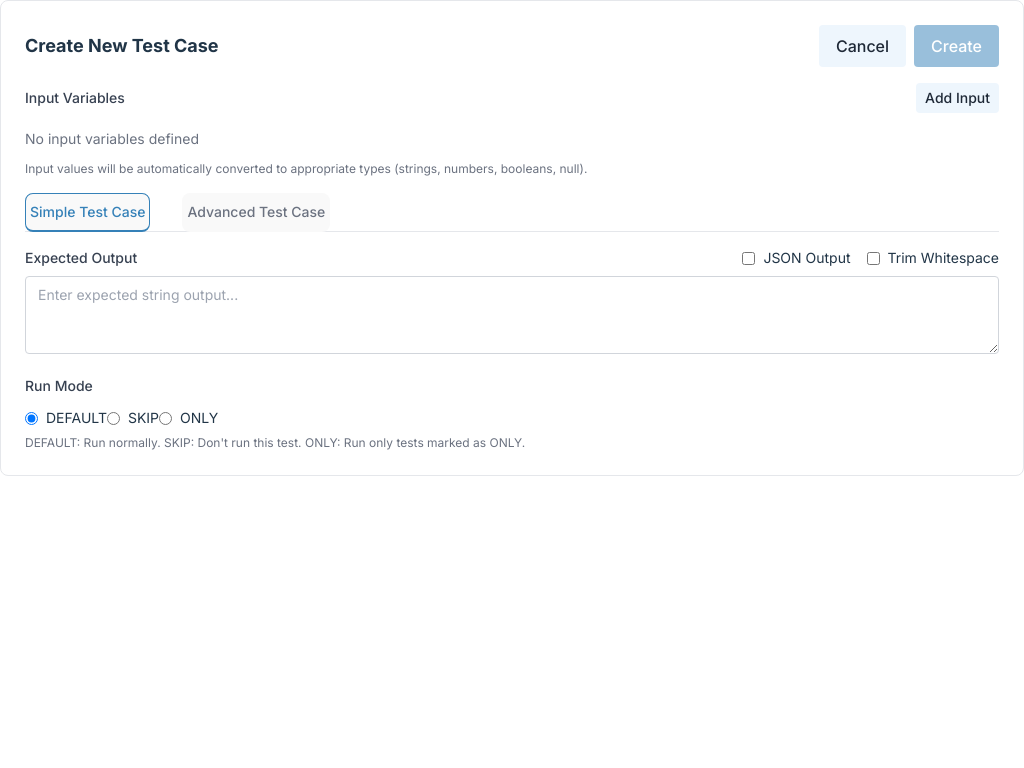
Test: TestCaseEditor › shows error for invalid JSON
// Add input
Click the button "Add Input" at (958, 98), box [916,83,999,113]
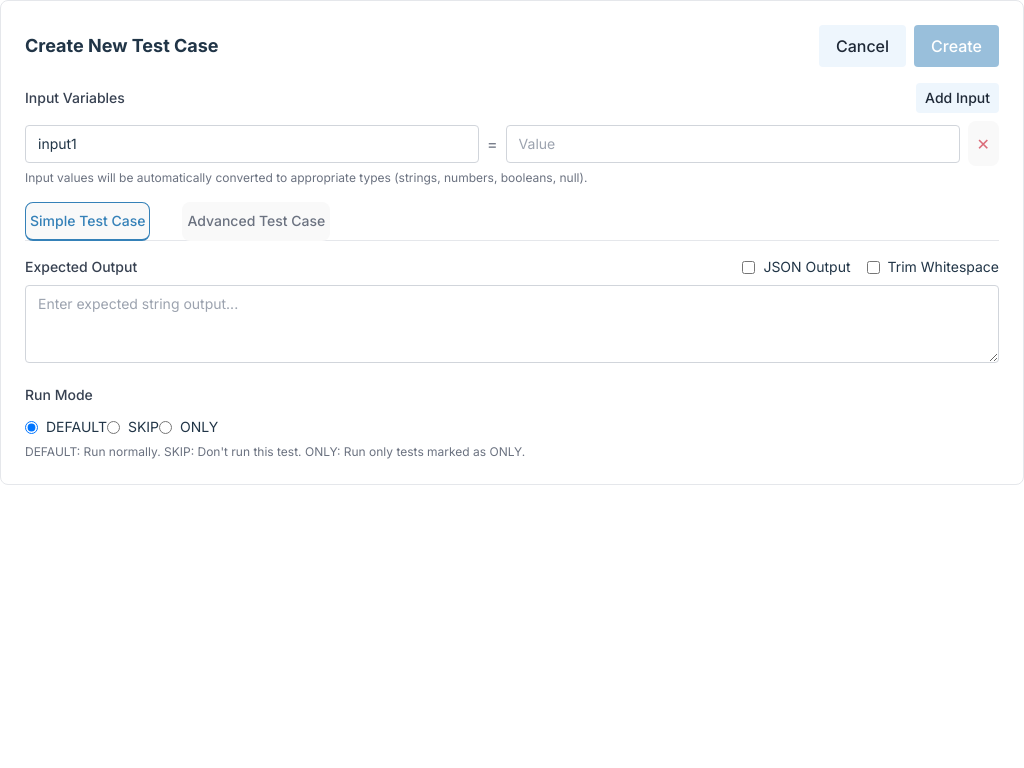
Replace the text in the field with placeholder "Key" with "test" at (252, 144), box [25,125,479,163]
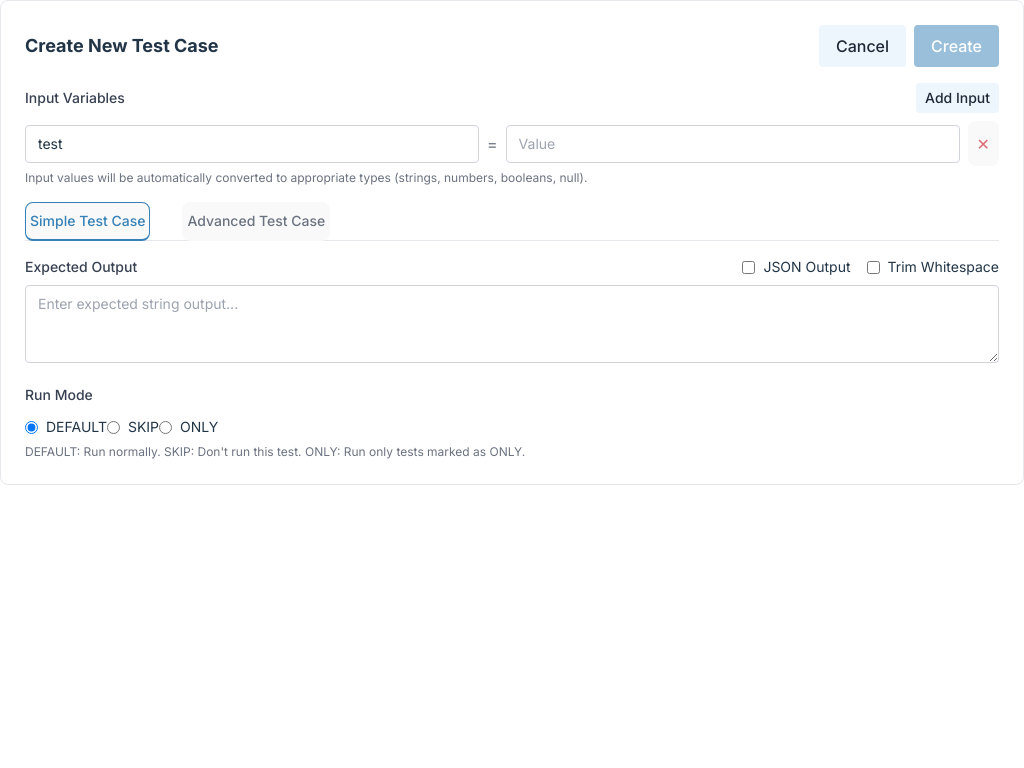
Type "value" into the field with placeholder "Value" at (733, 144), box [506,125,960,163]
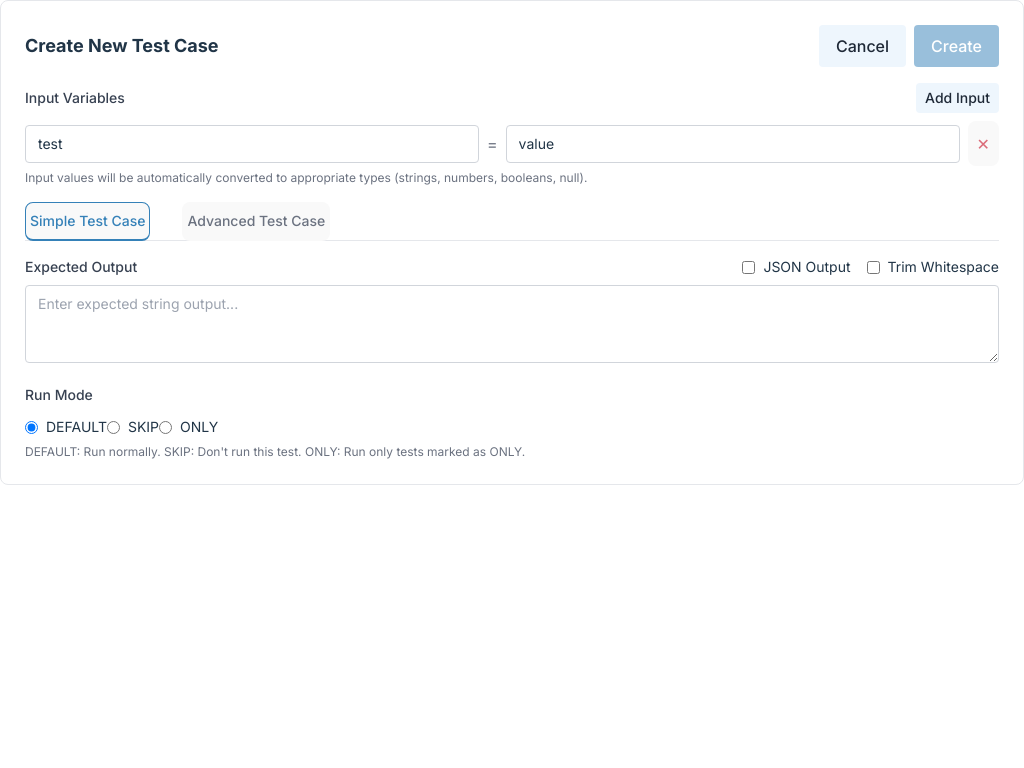
// Enable JSON output
Click the checkbox labelled "JSON Output" at (749, 267), box [742,261,755,274]
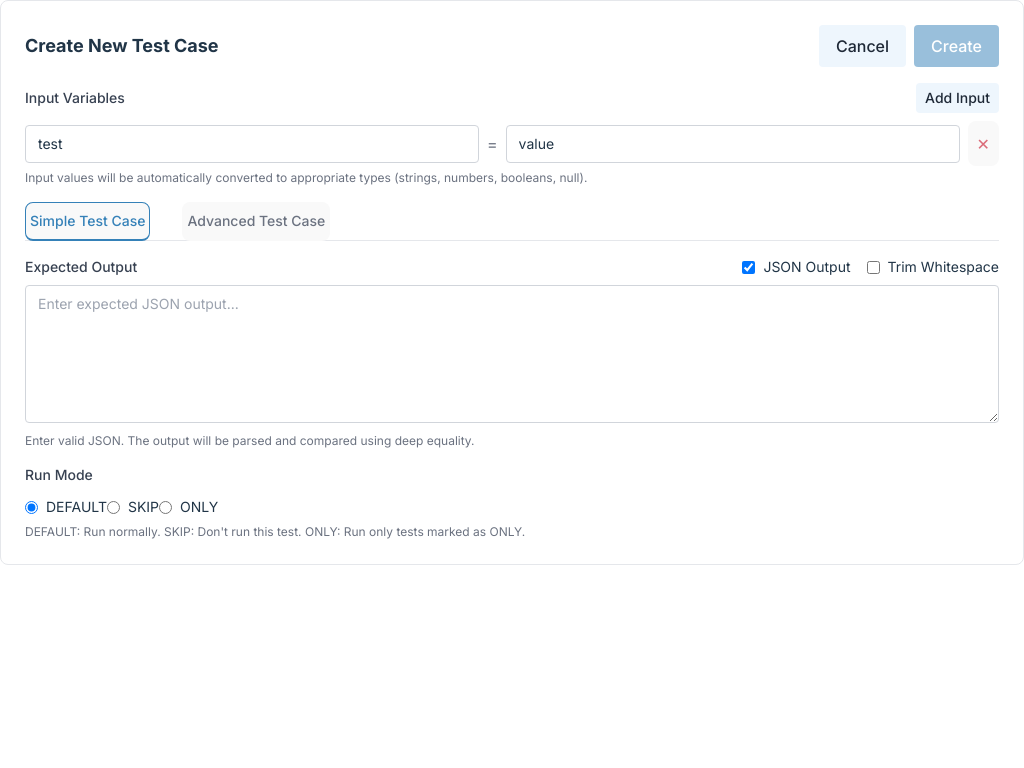
// Add invalid JSON
Type "invalid json" into the text box with placeholder "Enter expected JSON output..." at (512, 354), box [25,285,999,423]
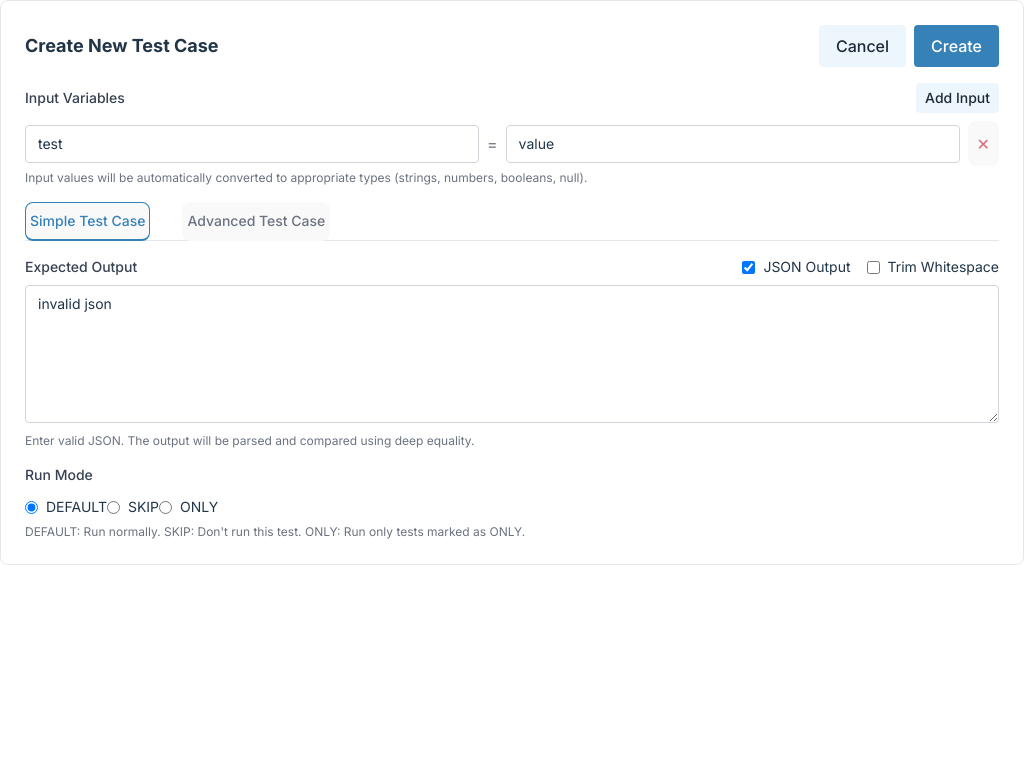
Click the button "Create" at (956, 46), box [914,25,999,67]
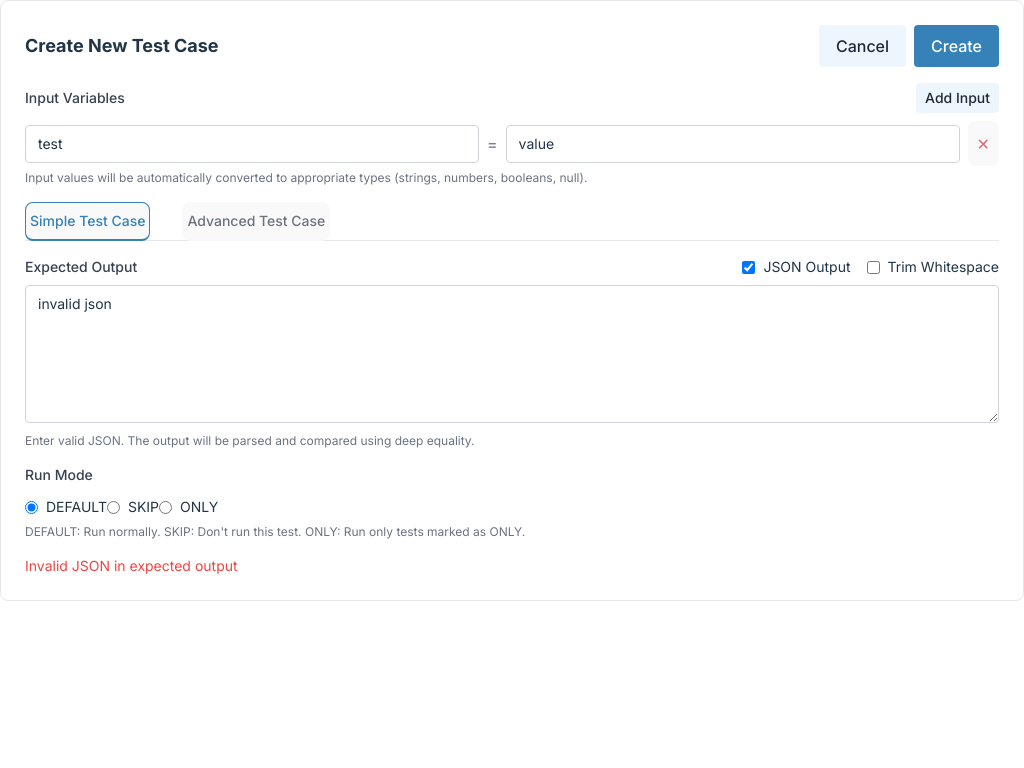
Check: the text "Invalid JSON in expected output" is shown, box [25,557,238,574]
